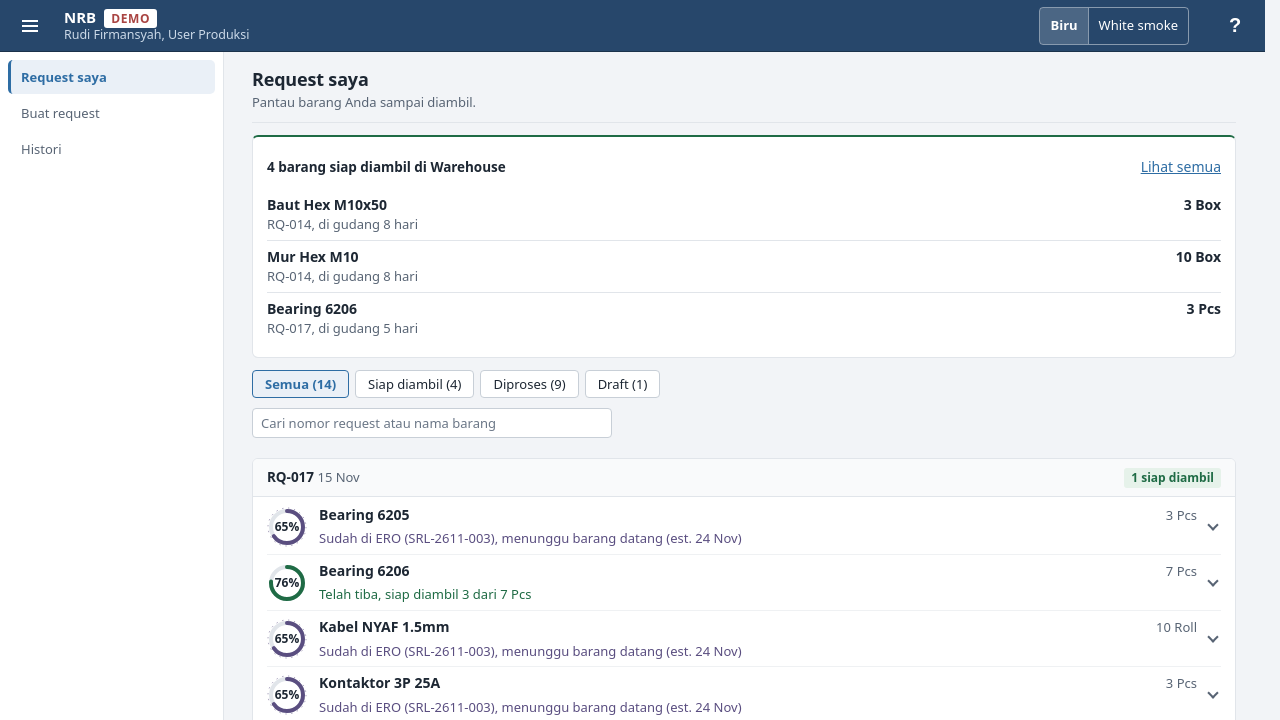
Test: Request saya vs Histori (data contoh) › Histori: rincian barang baru muncul saat baris dibuka; ditolak/dibatalkan punya lencana sendiri
Check: the button "Request saya" is shown, box [8,60,215,94]
Click the button "Histori".
click(112, 149)  # box [8,132,215,166]
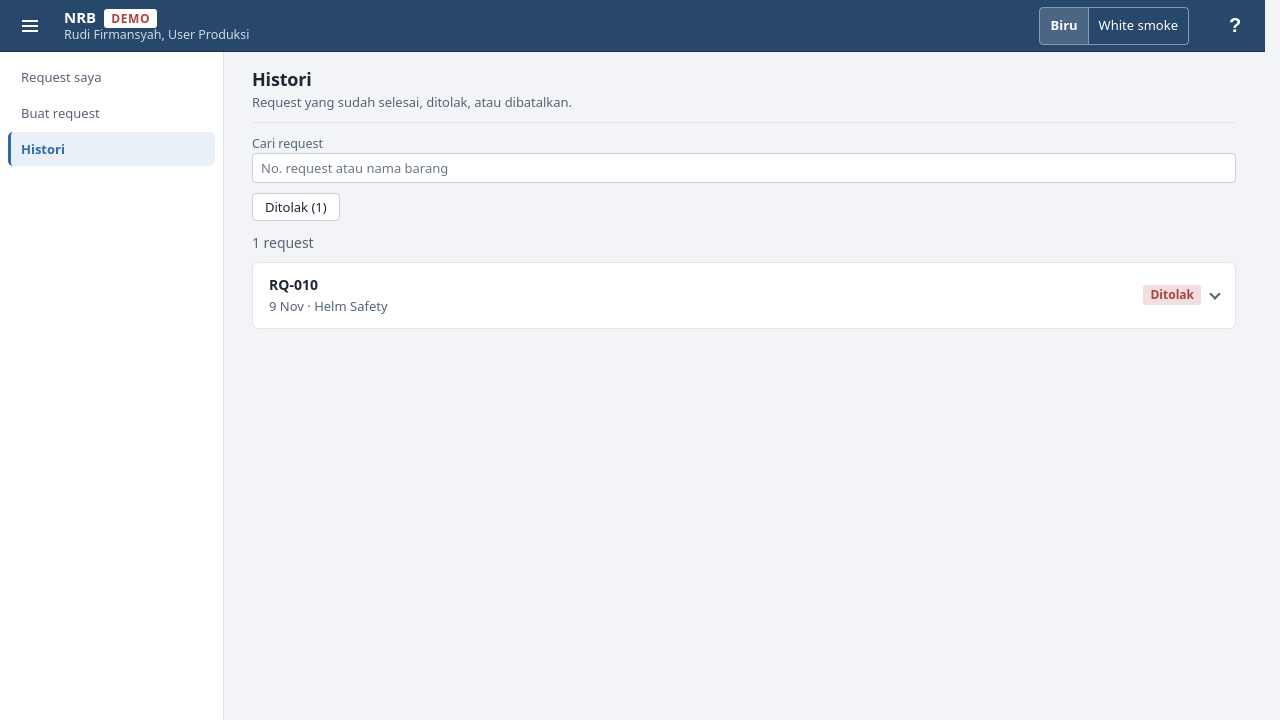
Check: the text "Ditolak" is shown, box [1144,285,1201,305]
Check: the element with class "itm" is gone
Click the button "RQ-010 9 Nov · Helm Safety Ditolak".
click(293, 284)  # box [253,263,1235,328]
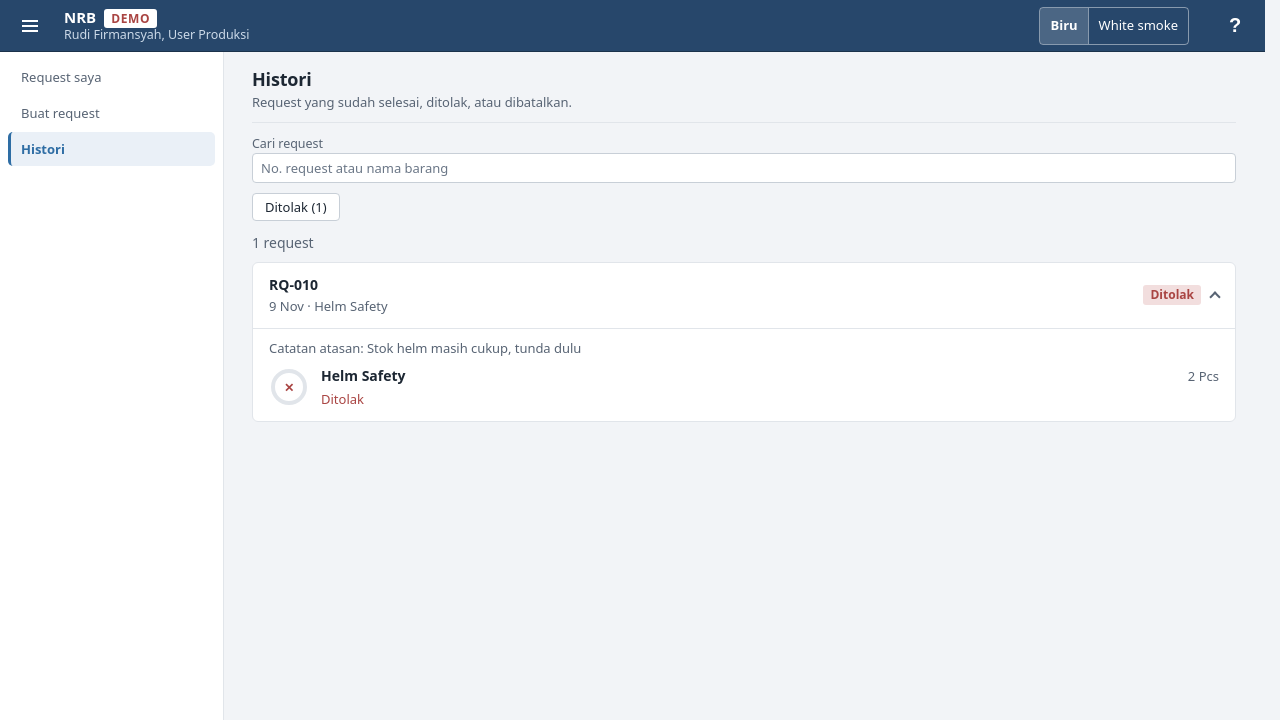
Check: the element with class "itm" is shown, box [269,366,1219,409]
Check: the list item "RQ-010" shows "Stok helm masih cukup, tunda dulu", box [367,339,581,357]
